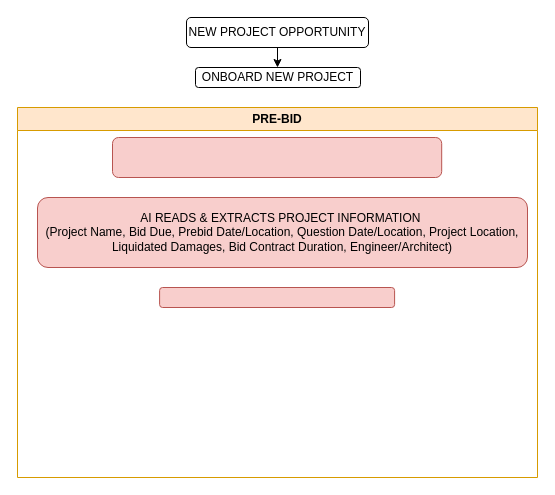
This 555x495 diagram has some shape labels left out. Here are the shapes that lost their labels. From the top down, the centre of each, then its label:
At (277,157): "UPLOAD PROJECT DOCUMENTS TO AI SYSTEM (Plans, Specifications, Bid Docs, Addenda)".
At (277,297): "ESTIMATOR CONFIRMS AI INPUTS".
